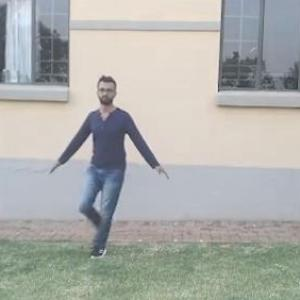land: (41, 78, 172, 249)
